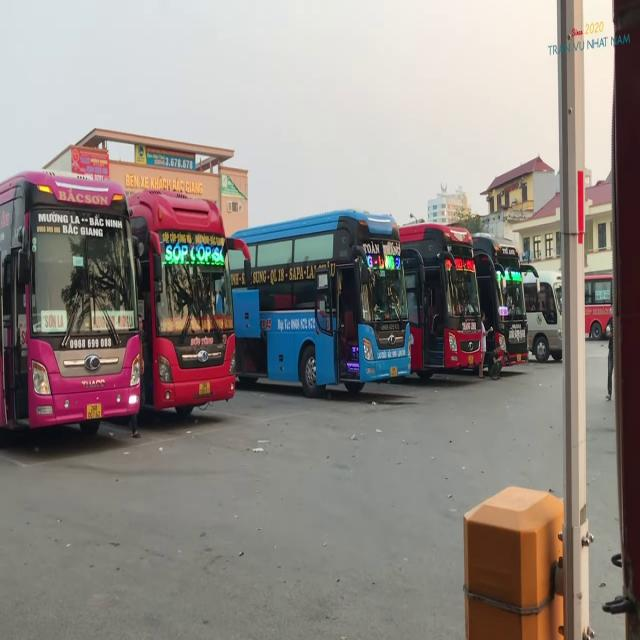bien_vang: (87, 400, 103, 419), (198, 378, 211, 398)
